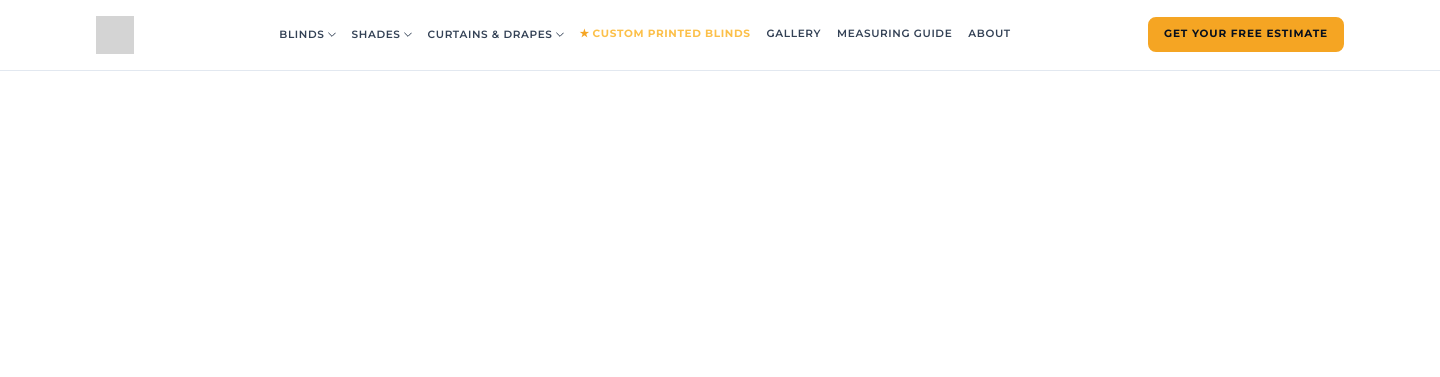
Test: Nav › only one dropdown is open at a time
Click the button "Blinds" at (307, 34), box top-left (271, 20), bottom-right (344, 49)
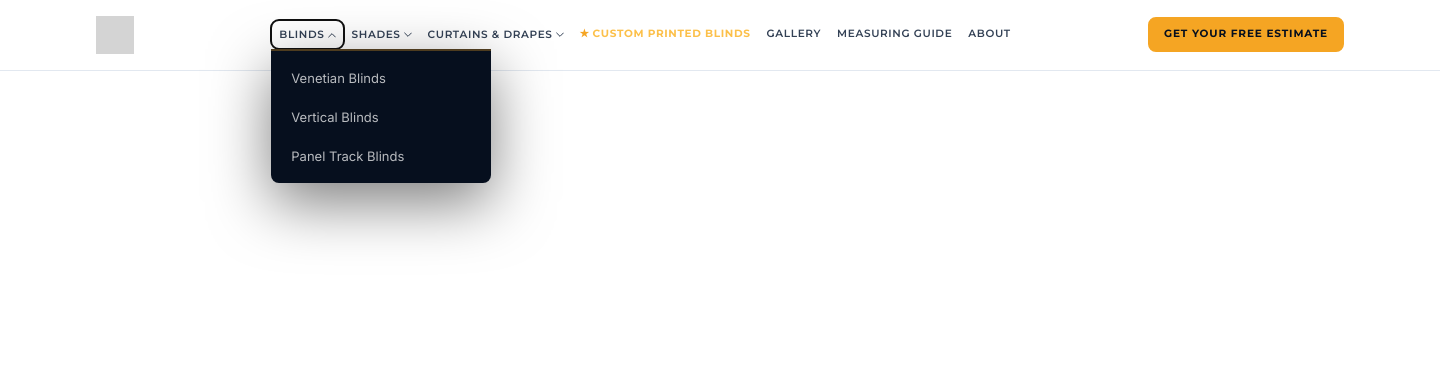
Result: the button "Blinds" is expanded at top-left (271, 20), bottom-right (344, 49)
Click the button "Shades" at (382, 34), box top-left (344, 20), bottom-right (420, 49)
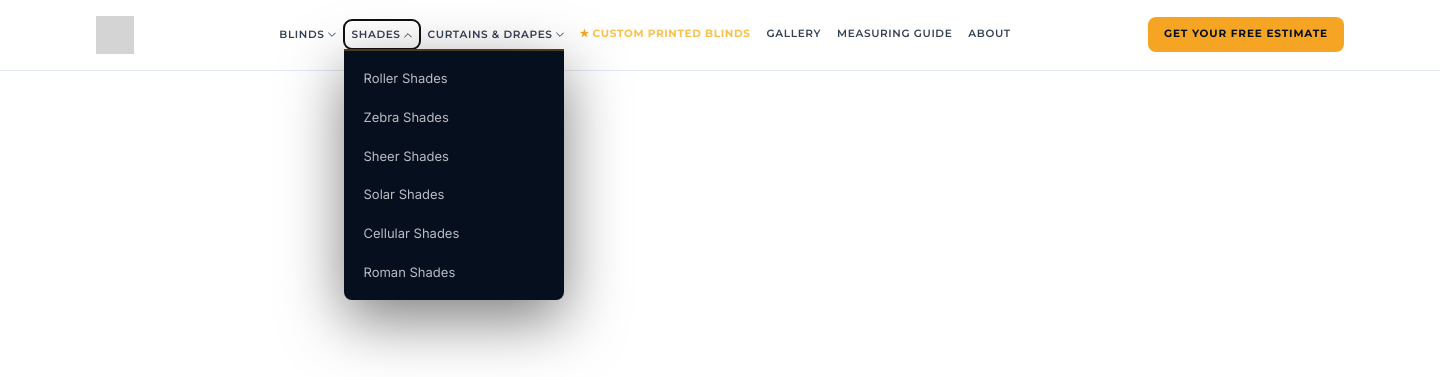
Result: the button "Shades" is expanded at top-left (344, 20), bottom-right (420, 49)
Result: the button "Blinds" is collapsed at top-left (271, 20), bottom-right (344, 49)
